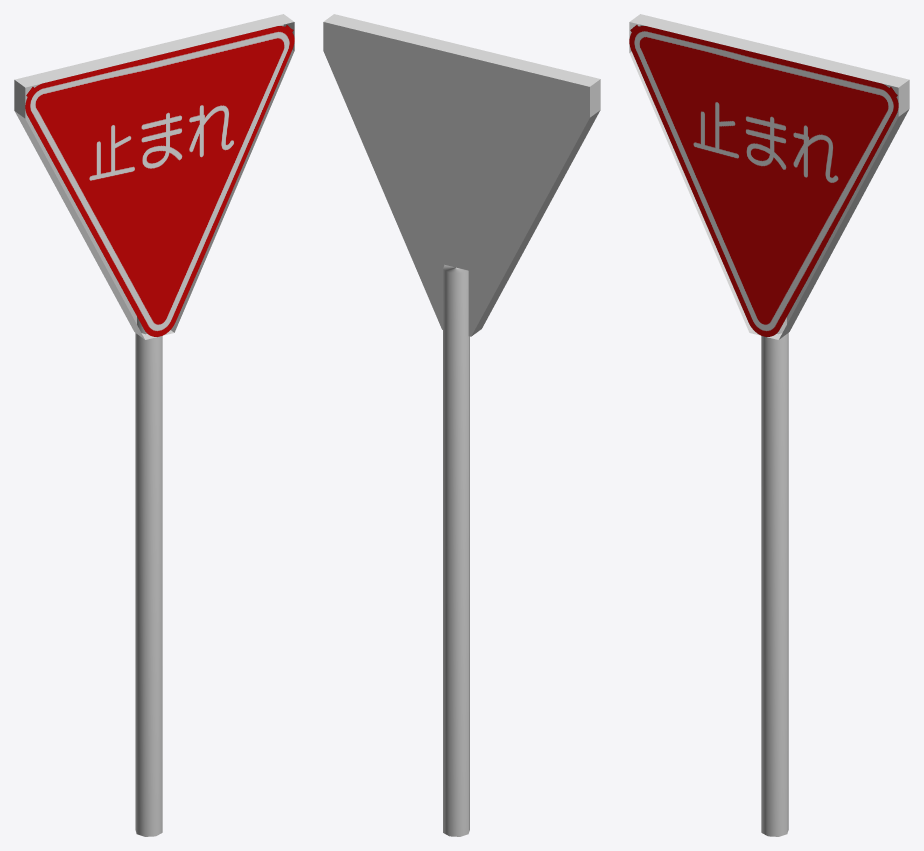
File: 一時停止.fbx
The picture shows the model from 3 angles, left to right: view 1: azimuth 30°, elevation 25°; view 2: azimuth 150°, elevation 25°; view 3: azimuth 330°, elevation 25°; orthographic projection.
Visible parts, largest first — view 1: Plane, Cylinder; view 2: Plane, Cylinder; view 3: Plane, Cylinder.
Part boxes in pixels (x1=…): Plane: x1=14, y1=14, x2=294, y2=339; Cylinder: x1=135, y1=317, x2=162, y2=836; Plane: x1=323, y1=14, x2=600, y2=336; Cylinder: x1=443, y1=264, x2=469, y2=836; Plane: x1=629, y1=14, x2=909, y2=339; Cylinder: x1=761, y1=317, x2=788, y2=836.
Bounding box in the file's own units: 68.97 × 192 × 8.02.
